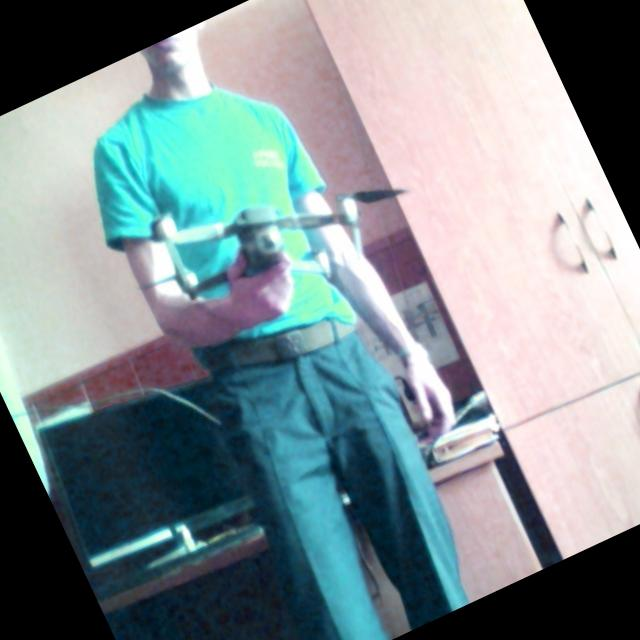drone: (114, 105, 446, 370)
